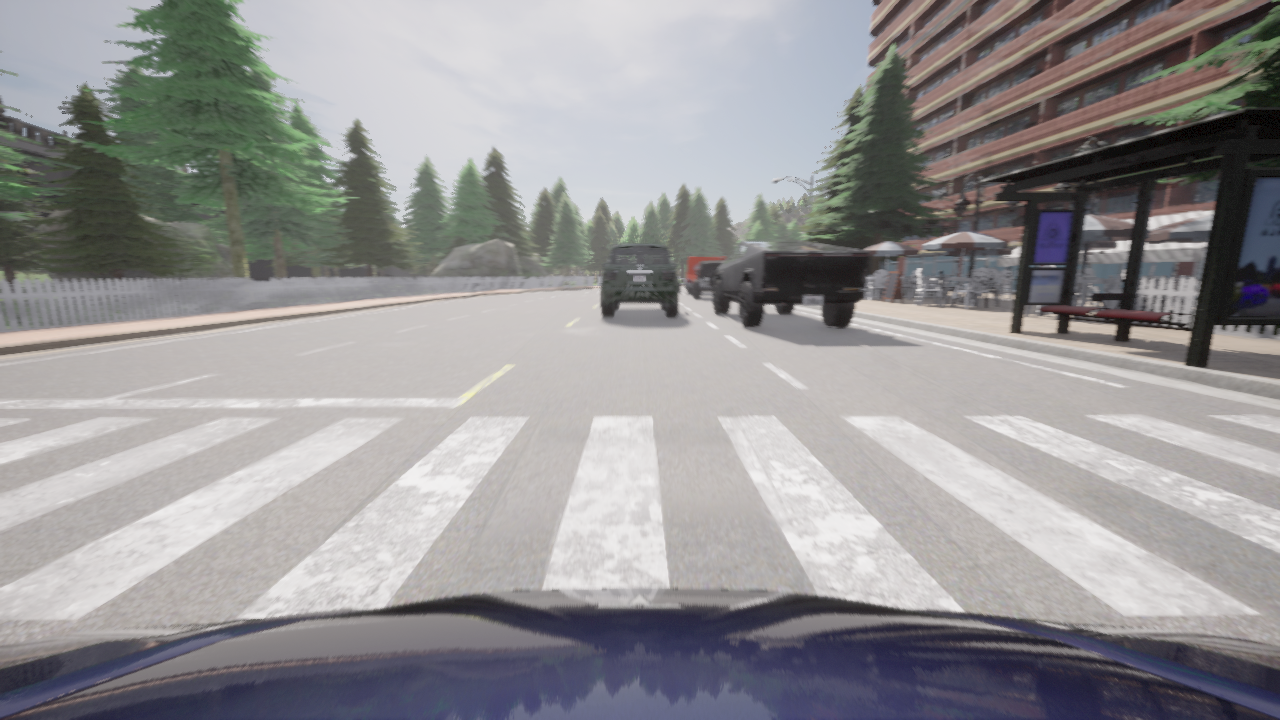cyclist: (0, 588, 1279, 719), (713, 241, 869, 327), (601, 244, 678, 317), (685, 256, 726, 293), (692, 262, 723, 298), (678, 280, 680, 292)
